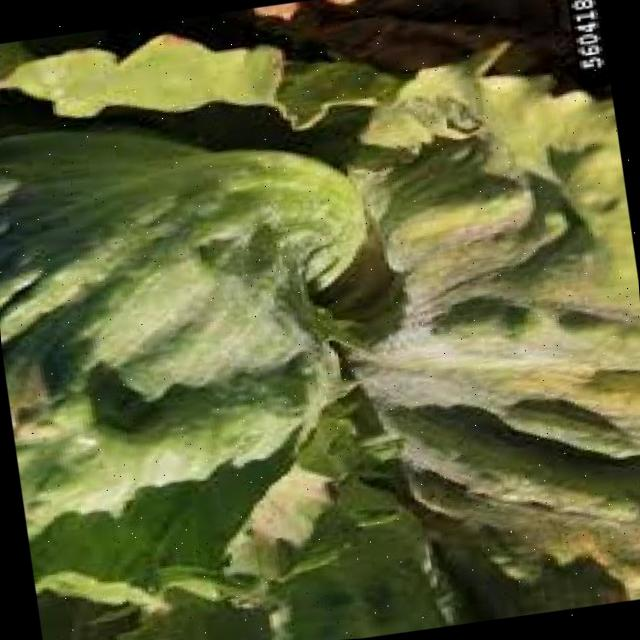Powdery_mildew_on_lettuce: (39, 199, 634, 494)
